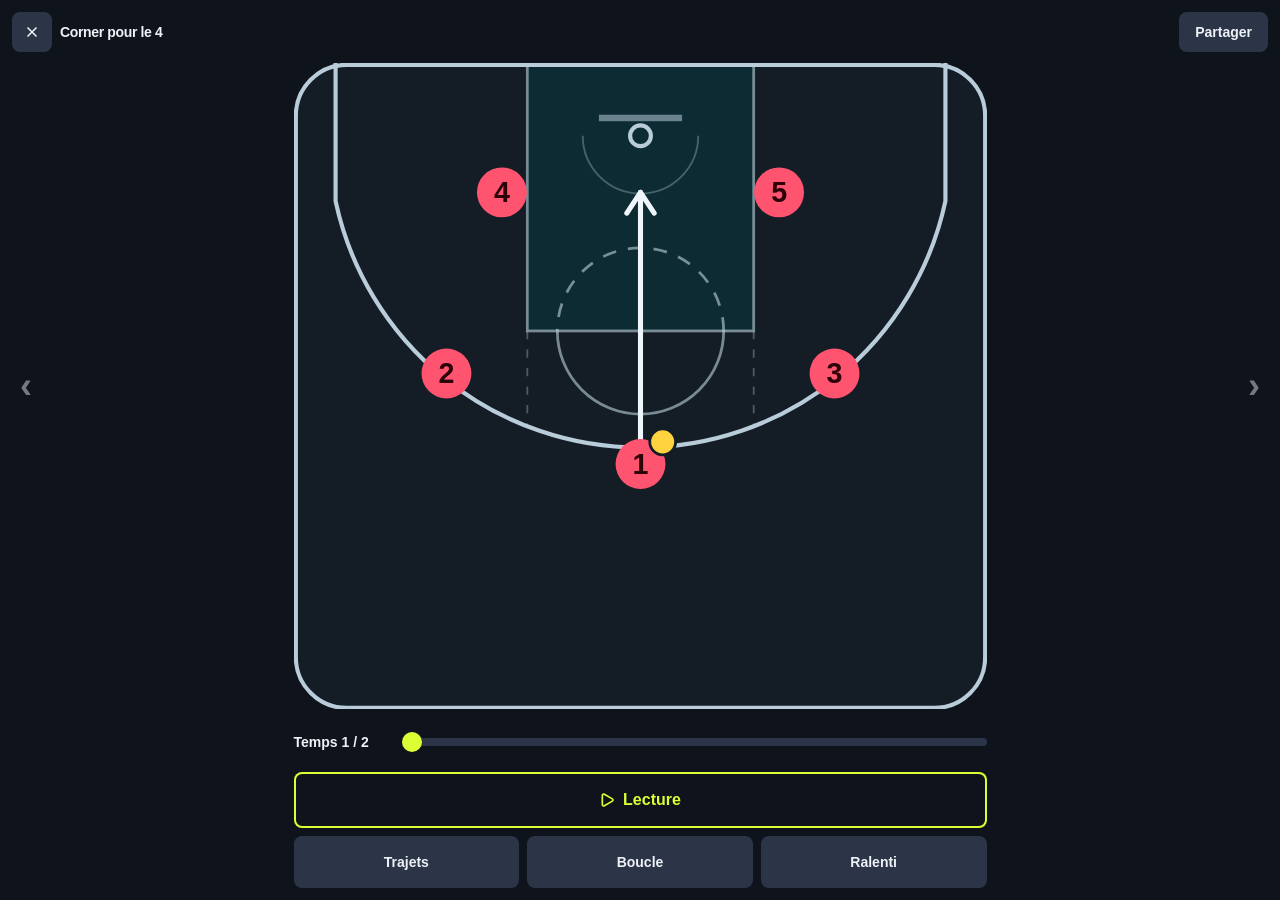
Test: SchemaPlayer — the time-out viewer › playback stops at the last step, and the loop restarts from the first
The width and height of the screenshot is (1280, 900).
Expected: the picture named "tableau tactique" is shown, [294,63,986,709]
Click the button "Lecture". click: x=640, y=800
box: [294,772,986,828]
Wait 2000 ms
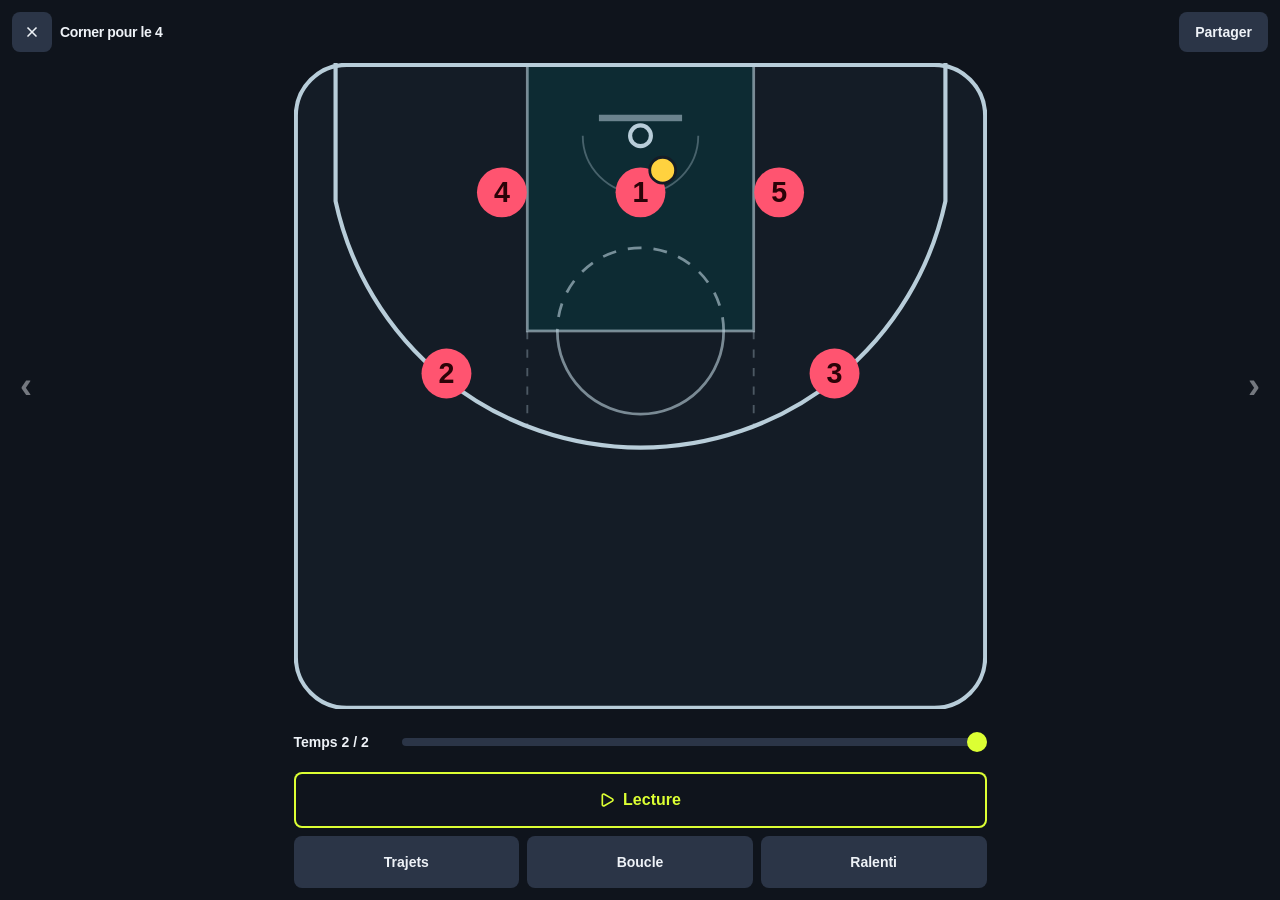
# With looping, the last step held, we restart from the first and it goes on.
Click the button "Boucle". click: x=640, y=862
box: [527,836,753,888]
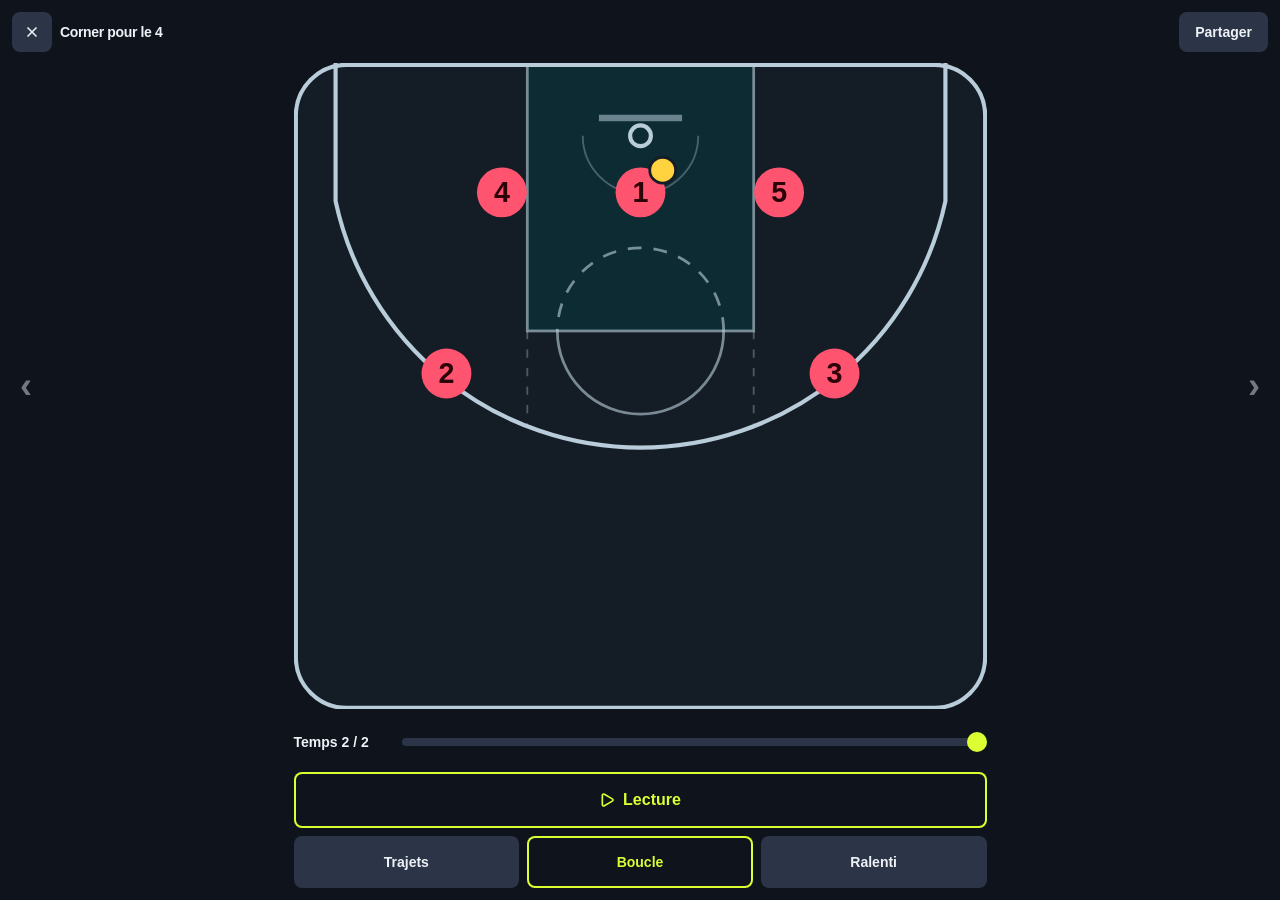
Click the button "Lecture". click: x=640, y=800
box: [294,772,986,828]
Wait 1600 ms
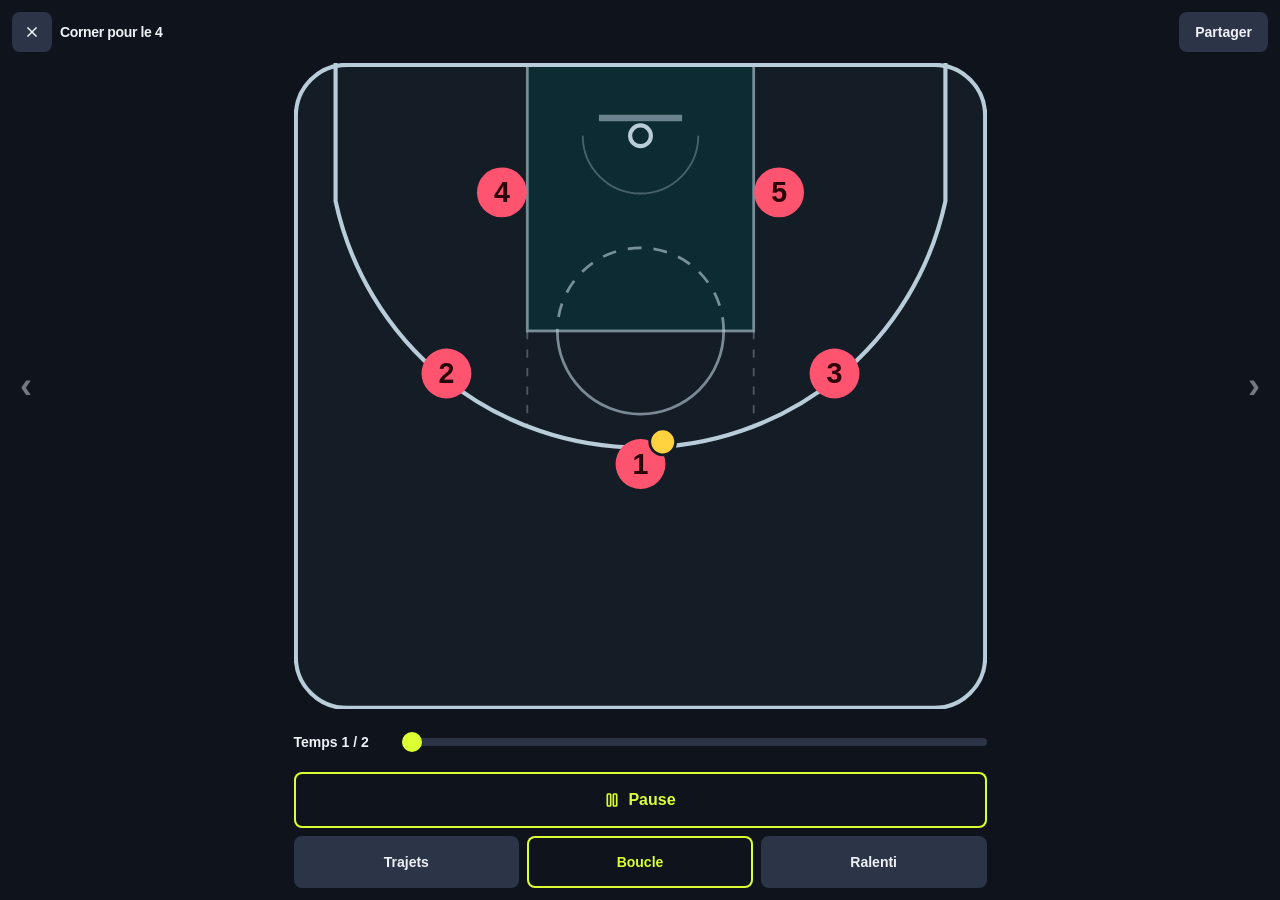
Expected: the button "Pause" is shown, [294,772,986,828]
